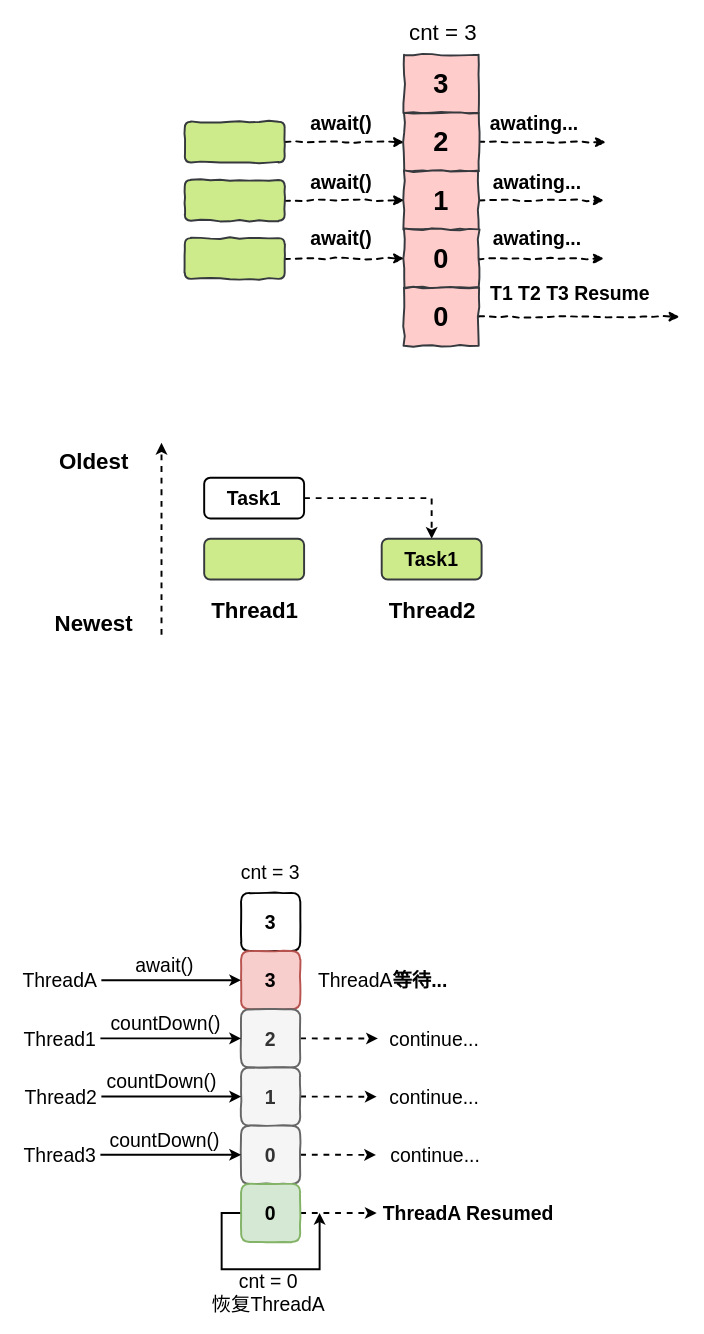
This 704x1334 diagram has some shape labels left out. The shapes that lost their labels are listed below. From the top down, each one's centre as x and y in pixels, then its label:
At point 234,141: "T1".
At point 234,199: "T2".
At point 234,258: "T3".
At point 254,558: "Task2".
